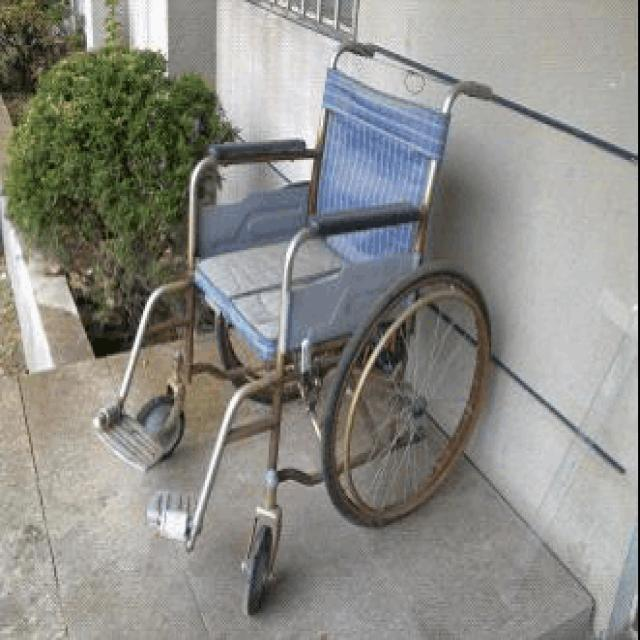wheelchairs: (80, 37, 523, 618)
